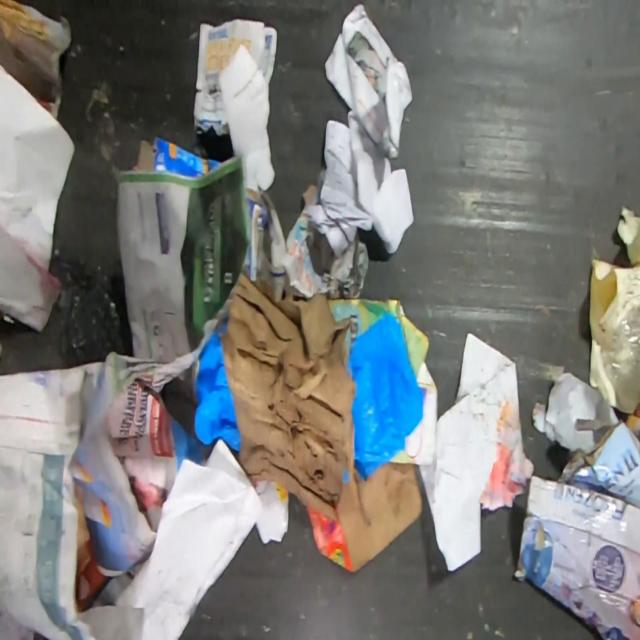cardboard: (218, 271, 354, 520), (515, 475, 640, 640), (305, 459, 423, 573), (242, 188, 288, 301), (135, 134, 220, 177)
soft_plastic: (344, 310, 424, 481), (531, 371, 620, 455), (601, 305, 640, 413)
